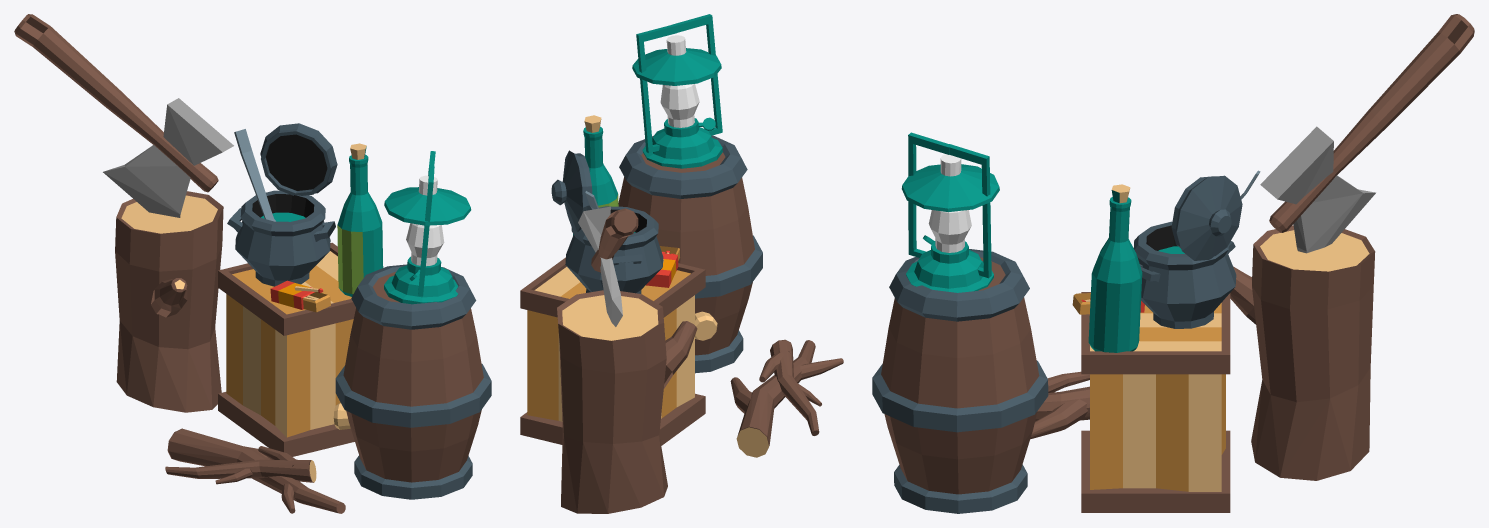
The model's file is Camping Stuff.glb.
3 views of the same model, side by side, from view 1: azimuth 30°, elevation 25°; view 2: azimuth 150°, elevation 25°; view 3: azimuth 270°, elevation 25° (orthographic). The views are drawn at different scales.
Visible parts, largest first — view 1: Node; view 2: Node; view 3: Node.
Part boxes in pixels (<box>): Node: <box>14,14,491,513</box>; Node: <box>520,14,843,513</box>; Node: <box>872,14,1474,513</box>.
Bounding box in the file's own units: 0.789 × 1.04 × 1.42.
